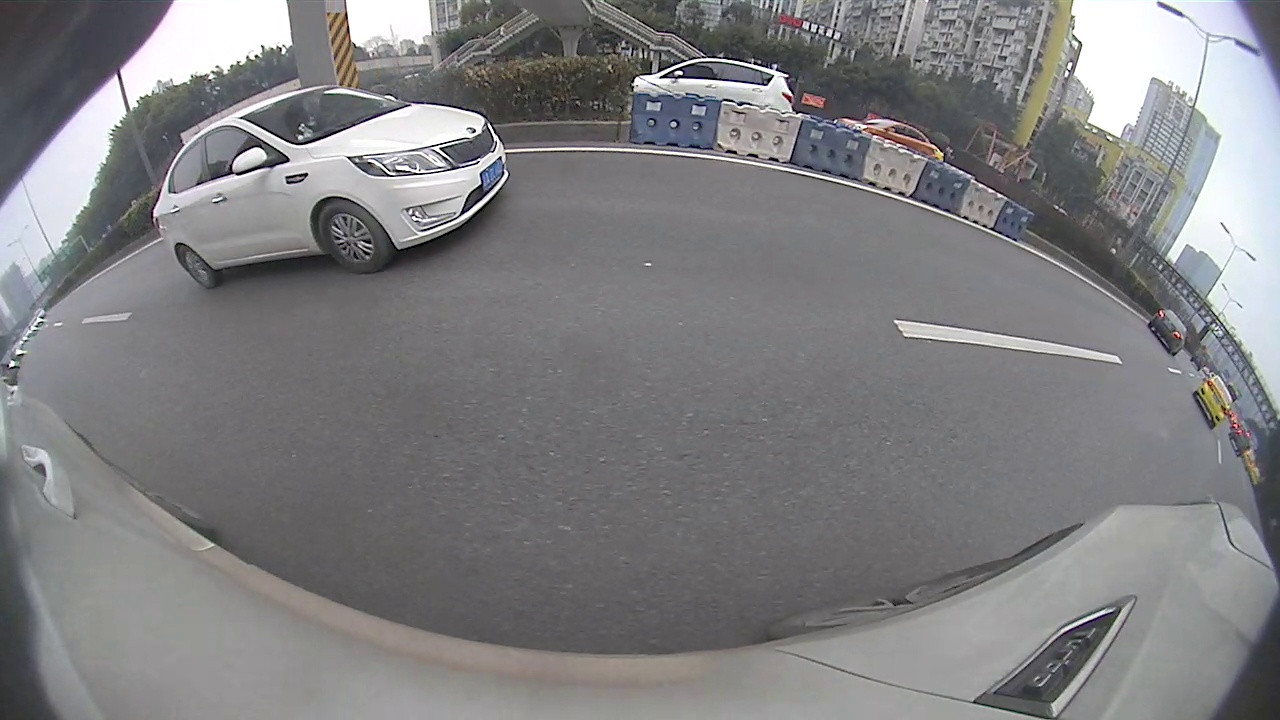car: (150, 82, 512, 293), (1189, 367, 1237, 430), (1147, 305, 1191, 357)
front: (312, 198, 394, 277)
rear: (176, 243, 223, 291)
